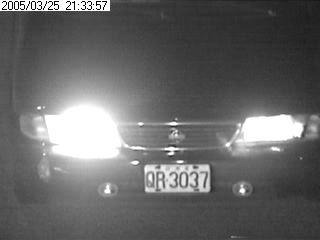plate: (141, 161, 212, 195)
